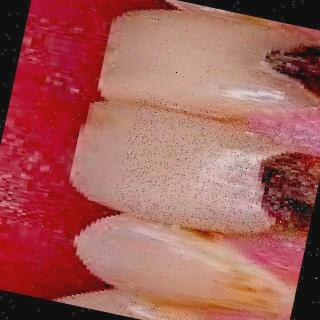cavities: (219, 128, 320, 258), (240, 27, 320, 131)
